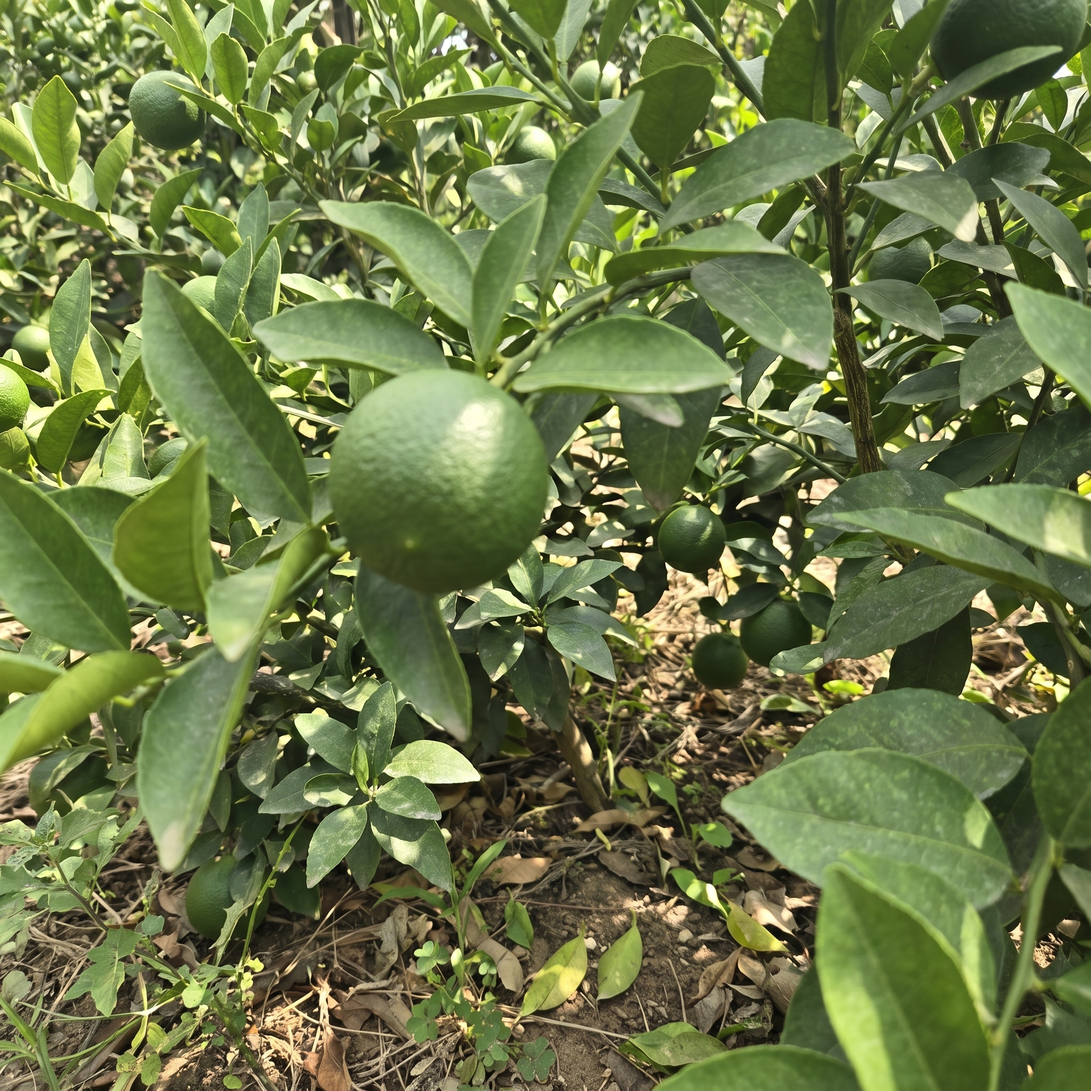orange_immature: (329, 370, 547, 593), (930, 0, 1087, 99), (129, 71, 205, 150), (657, 505, 726, 573), (740, 599, 811, 665), (185, 855, 235, 940), (692, 632, 747, 689), (866, 238, 932, 283), (0, 365, 30, 431), (504, 126, 556, 164), (11, 324, 50, 371), (148, 438, 188, 478), (182, 276, 217, 315), (369, 139, 409, 173), (570, 60, 598, 101), (600, 62, 621, 100), (200, 247, 225, 275), (255, 891, 271, 927), (61, 70, 82, 95), (111, 82, 134, 101), (297, 71, 316, 94), (35, 36, 55, 56), (460, 115, 475, 138), (115, 0, 140, 12), (120, 168, 134, 189), (22, 72, 38, 90), (67, 15, 84, 31), (234, 917, 247, 937), (455, 123, 465, 144)
